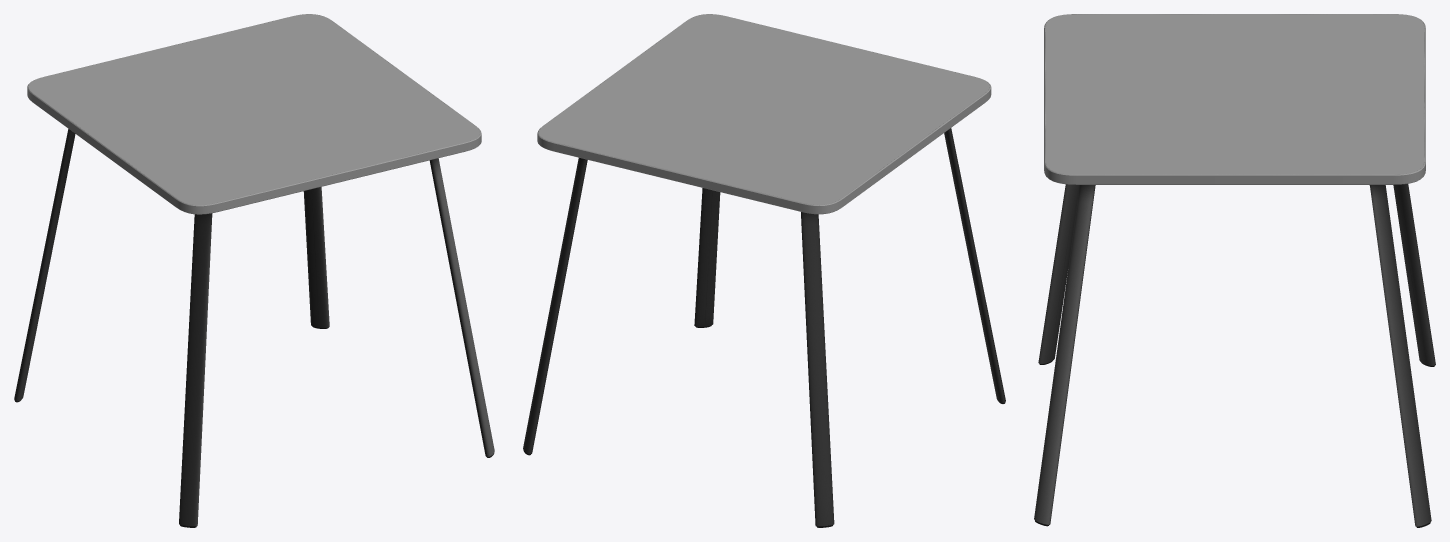
The picture shows the model from 3 angles, left to right: view 1: azimuth 30°, elevation 25°; view 2: azimuth 150°, elevation 25°; view 3: azimuth 270°, elevation 25°; orthographic projection. The views are drawn at different scales.
Visible parts, largest first — view 1: ASH, STEEL_RED; view 2: ASH, STEEL_RED; view 3: ASH, STEEL_RED.
Part boxes in pixels (x1,y1,x2,y2): ASH: (27, 14, 481, 214); STEEL_RED: (14, 129, 494, 526); ASH: (537, 14, 991, 214); STEEL_RED: (523, 128, 1005, 526); ASH: (1044, 14, 1425, 184); STEEL_RED: (1034, 184, 1435, 526).
Size of what is drawn, in the model's own units: 76.82 by 73.8 by 76.82.
4 materials, 2 textured.
